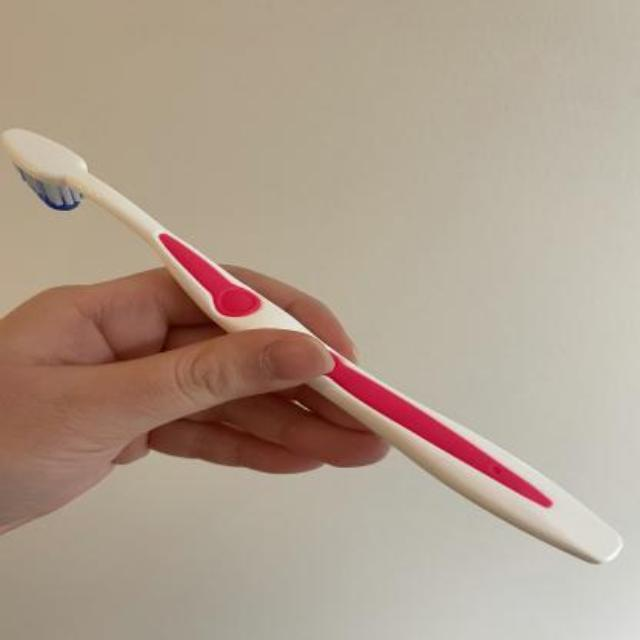toothbrush: (1, 114, 634, 576)
